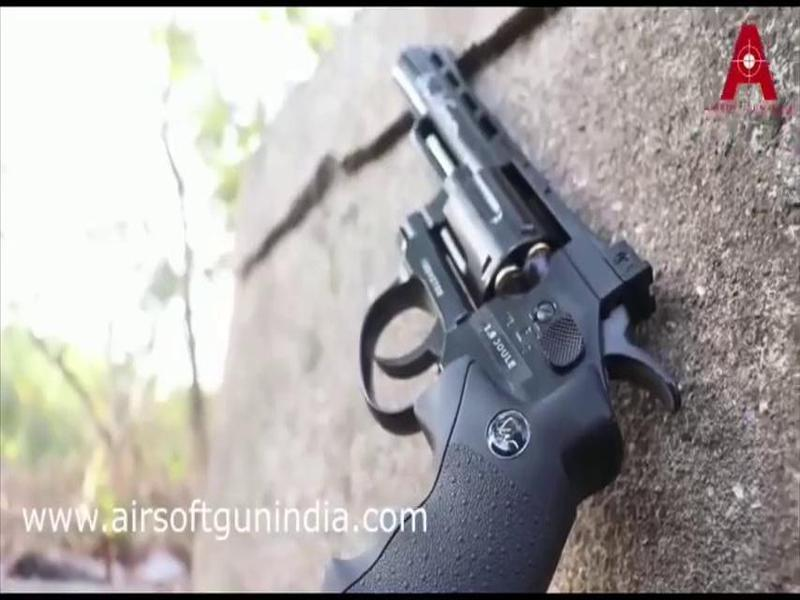Revolver: (347, 19, 684, 600)
